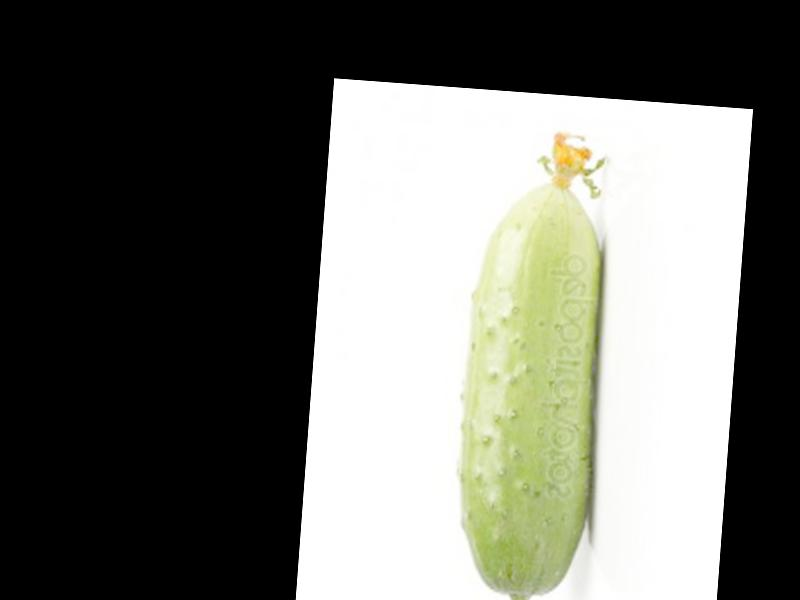Cucumber: (448, 129, 619, 600)
